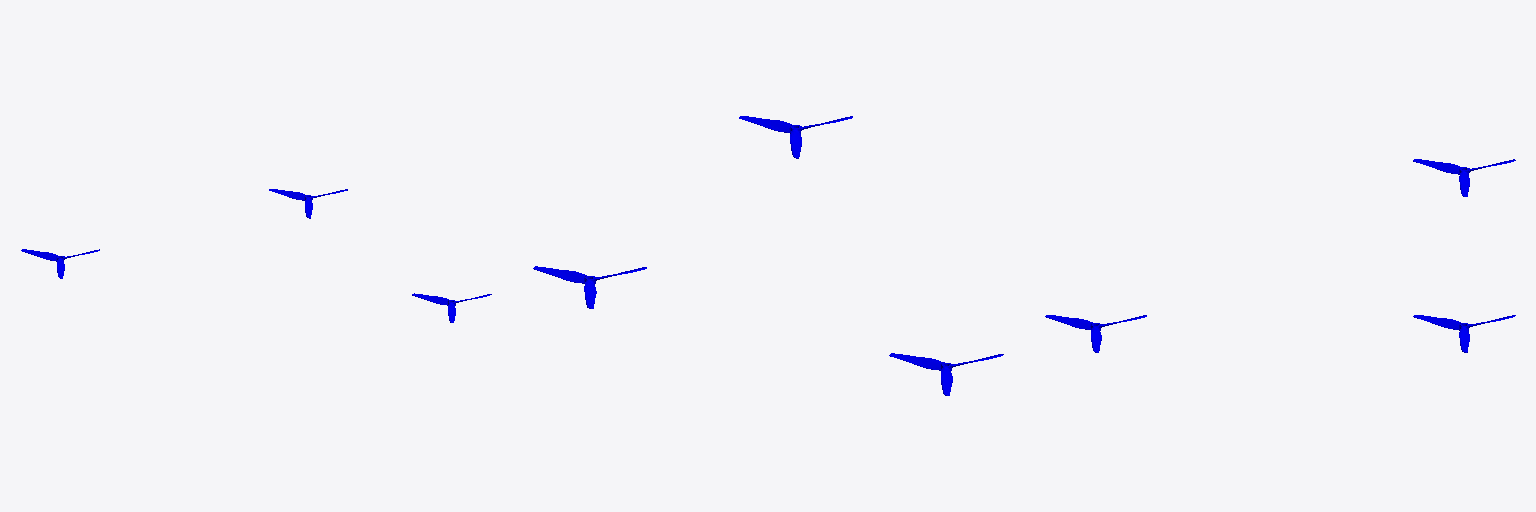
robot.urdf — quadcopter:
<?xml version="1.0" ?>
<!-- =================================================================================== -->
<!-- |    This document was autogenerated by xacro from [local-path]/drone_model/src/drone_description/urdf/drone.urdf.xacro | -->
<!-- |    EDITING THIS FILE BY HAND IS NOT RECOMMENDED                                 | -->
<!-- =================================================================================== -->
<robot name="quadcopter">
  <!-- Base Frame -->
  <link name="base_link">
    <visual>
      <geometry>
        <mesh filename="package://drone_description/meshes/base_link.STL" scale="1 1 1"/>
      </geometry>
      <material name="gray">
        <color rgba="0.7 0.7 0.7 1"/>
      </material>
    </visual>
    <collision>
      <geometry>
        <mesh filename="package://drone_description/meshes/base_link.STL" scale="1 1 1"/>
      </geometry>
    </collision>
    <inertial>
      <mass value="1.5"/>
      <inertia ixx="0.1" ixy="0.0" ixz="0.0" iyy="0.1" iyz="0.0" izz="0.1"/>
    </inertial>
  </link>
  <!-- Rotor visual and collision -->
  <link name="front_left">
    <visual>
      <geometry>
        <mesh filename="package://drone_description/meshes/rotor1.STL" scale="0.5 0.5 0.5"/>
      </geometry>
      <material name="blue">
        <color rgba="0.0 0.0 1.0 1"/>
      </material>
    </visual>
    <collision>
      <geometry>
        <mesh filename="package://drone_description/meshes/rotor1.STL" scale="0.5 0.5 0.5"/>
      </geometry>
    </collision>
  </link>
  <!-- Rotor joint fixed to parent -->
  <joint name="front_left_joint" type="fixed">
    <parent link="base_link"/>
    <child link="front_left"/>
    <origin rpy="0 0 0" xyz="0.2 0.2 0.05"/>
  </joint>
  <!-- Rotor visual and collision -->
  <link name="front_right">
    <visual>
      <geometry>
        <mesh filename="package://drone_description/meshes/rotor2.STL" scale="0.5 0.5 0.5"/>
      </geometry>
      <material name="blue">
        <color rgba="0.0 0.0 1.0 1"/>
      </material>
    </visual>
    <collision>
      <geometry>
        <mesh filename="package://drone_description/meshes/rotor2.STL" scale="0.5 0.5 0.5"/>
      </geometry>
    </collision>
  </link>
  <!-- Rotor joint fixed to parent -->
  <joint name="front_right_joint" type="fixed">
    <parent link="base_link"/>
    <child link="front_right"/>
    <origin rpy="0 0 0" xyz="0.2 -0.2 0.05"/>
  </joint>
  <!-- Rotor visual and collision -->
  <link name="rear_left">
    <visual>
      <geometry>
        <mesh filename="package://drone_description/meshes/rotor3.STL" scale="0.5 0.5 0.5"/>
      </geometry>
      <material name="blue">
        <color rgba="0.0 0.0 1.0 1"/>
      </material>
    </visual>
    <collision>
      <geometry>
        <mesh filename="package://drone_description/meshes/rotor3.STL" scale="0.5 0.5 0.5"/>
      </geometry>
    </collision>
  </link>
  <!-- Rotor joint fixed to parent -->
  <joint name="rear_left_joint" type="fixed">
    <parent link="base_link"/>
    <child link="rear_left"/>
    <origin rpy="0 0 0" xyz="-0.2 0.2 0.05"/>
  </joint>
  <!-- Rotor visual and collision -->
  <link name="rear_right">
    <visual>
      <geometry>
        <mesh filename="package://drone_description/meshes/rotor4.STL" scale="0.5 0.5 0.5"/>
      </geometry>
      <material name="blue">
        <color rgba="0.0 0.0 1.0 1"/>
      </material>
    </visual>
    <collision>
      <geometry>
        <mesh filename="package://drone_description/meshes/rotor4.STL" scale="0.5 0.5 0.5"/>
      </geometry>
    </collision>
  </link>
  <!-- Rotor joint fixed to parent -->
  <joint name="rear_right_joint" type="fixed">
    <parent link="base_link"/>
    <child link="rear_right"/>
    <origin rpy="0 0 0" xyz="-0.2 -0.2 0.05"/>
  </joint>
</robot>

--- Facts derived from the render (not from the file) ---
Views: 3 orthographic renders of the robot side by side, from view 1: azimuth 30°, elevation 25°; view 2: azimuth 150°, elevation 25°; view 3: azimuth 270°, elevation 25°.
Model quadcopter with 5 links and 4 joints (4 fixed), rooted at base_link, posed all joints at 0.
Links seen in each view (by area): view 1: none; view 2: front_left, front_right, rear_left; view 3: front_right, rear_left, front_left.
Link boxes in pixels (bbox=[...]): front_left: bbox=[533, 266, 646, 308]; front_right: bbox=[739, 116, 852, 158]; rear_left: bbox=[889, 353, 1003, 395]; front_right: bbox=[1045, 315, 1146, 352]; rear_left: bbox=[1413, 159, 1515, 196]; front_left: bbox=[1413, 315, 1515, 352].
Bounding box of the posed robot: 0.4977 × 0.5115 × 0.0063 m (x, y, z).
Meshes: 5 distinct files referenced, 3 mesh visuals loaded (3 binary STL); not drawn: 2 (reference not matched to a file when rendering).
